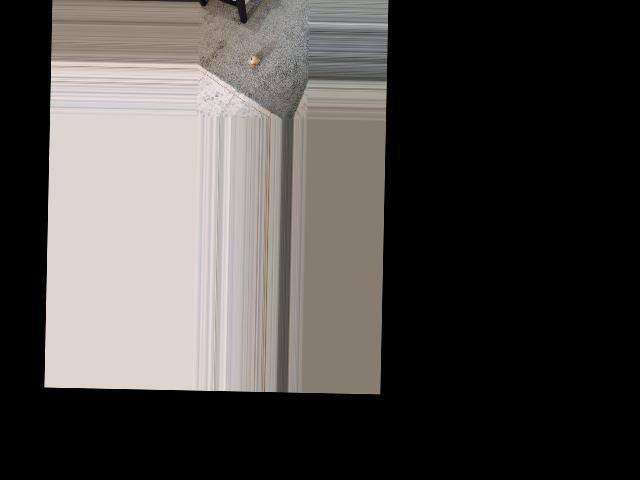onion: (247, 53, 264, 69)
